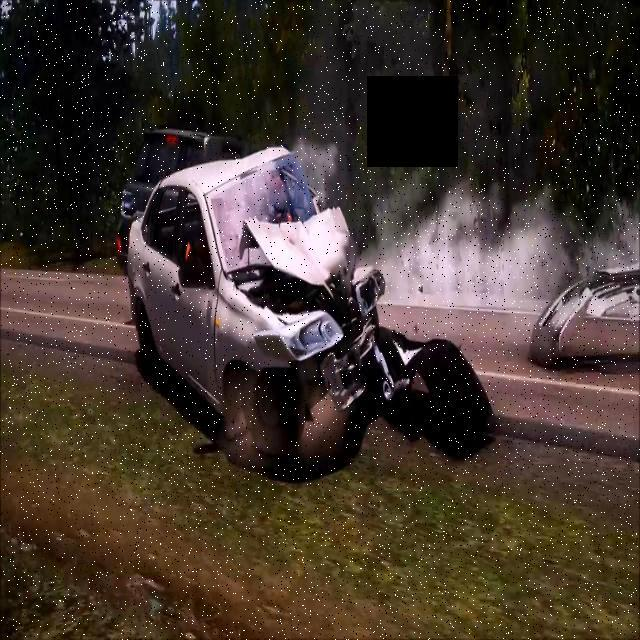severe: (130, 133, 440, 484)
